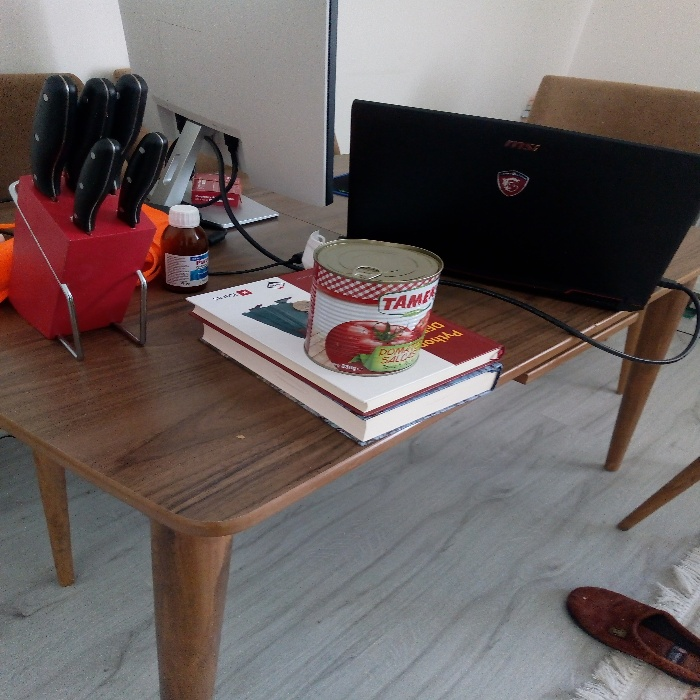salca: (303, 224, 449, 383)
